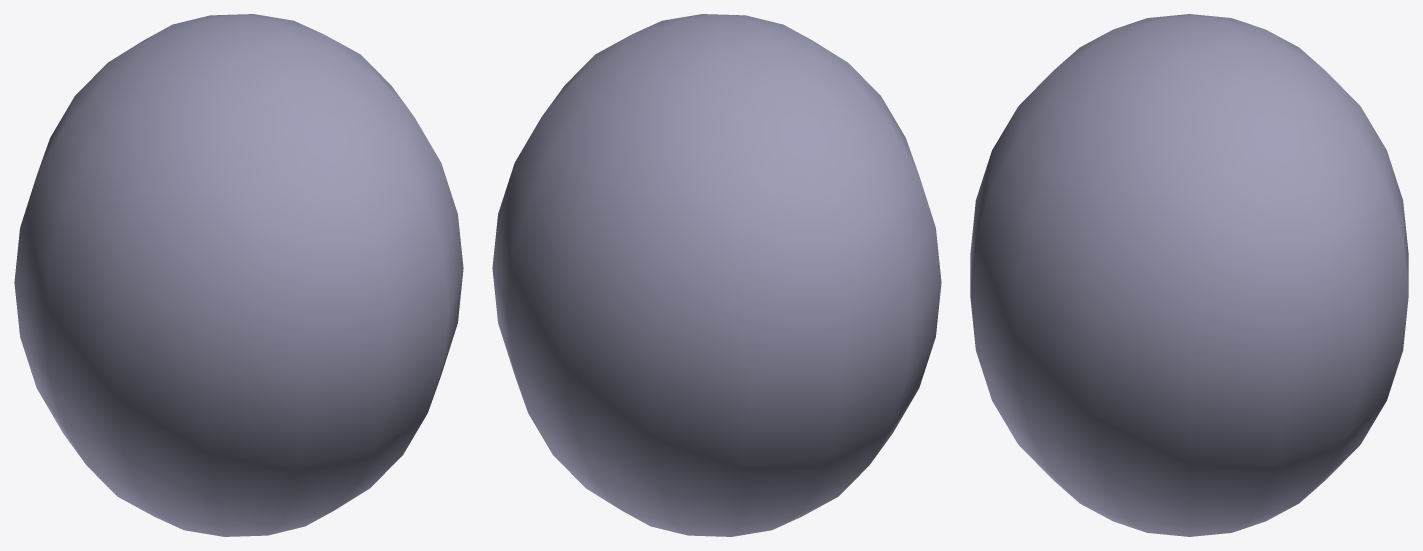
File: Ferrowurm_stage3.obj
3 views of the same model, side by side, from view 1: azimuth 30°, elevation 25°; view 2: azimuth 150°, elevation 25°; view 3: azimuth 270°, elevation 25° (orthographic).
Bounding box in the file's own units: 2.6 × 3.12 × 2.53.
